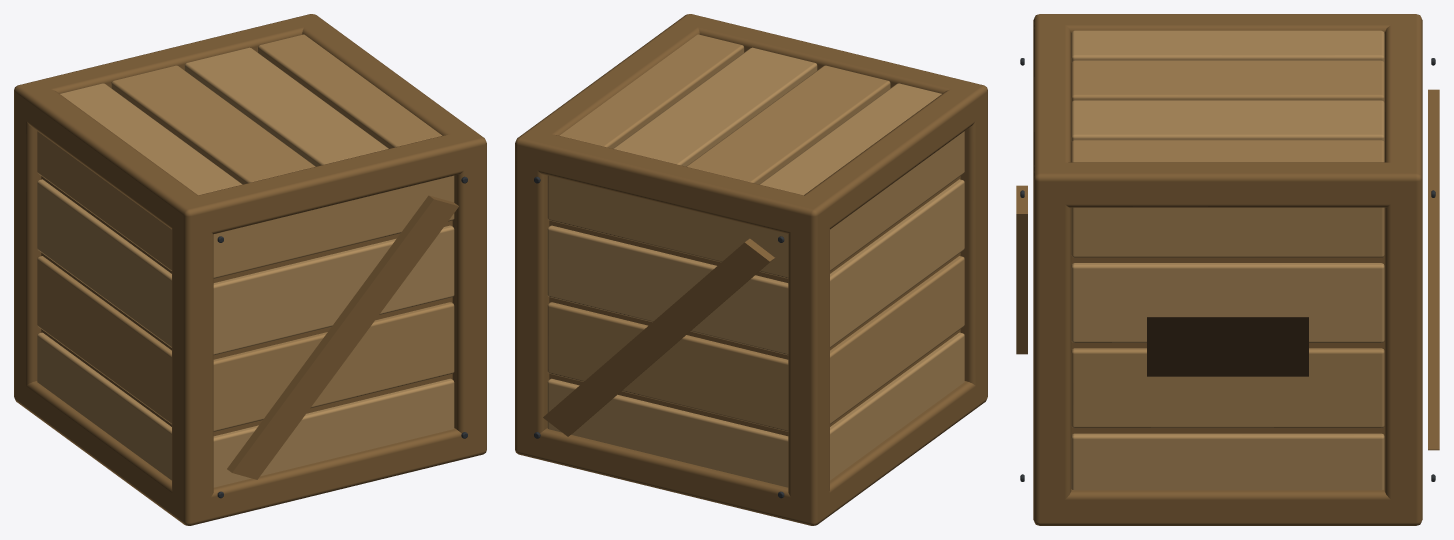
The model's file is pr_crate.glb.
The picture shows the model from 3 angles, left to right: view 1: azimuth 30°, elevation 25°; view 2: azimuth 150°, elevation 25°; view 3: azimuth 270°, elevation 25°; orthographic projection. The views are drawn at different scales.
Parts seen in each view (by area): view 1: block.003, block.004, block.029, block.036, quad, block.002, block.015, block.016, block.023, block.024, block.005, block.035 (+11 smaller); view 2: block.007, block.008, block.026, block.033, block.006, block.015, block.016, block.023, block.024, block.009, block.032, block.027 (+11 smaller); view 3: block.012, block.011, block.010, block.013, block.037, block.024, block.023, block.032, block.035, block.034, block.022, block (+9 smaller).
Boxes of the visible parts, x1=… form: block.003: x1=213, y1=302, x2=454, y2=431; block.004: x1=213, y1=225, x2=454, y2=355; block.029: x1=172, y1=196, x2=213, y2=521; block.036: x1=172, y1=134, x2=485, y2=235; quad: x1=227, y1=195, x2=458, y2=479; block.002: x1=213, y1=378, x2=454, y2=487; block.015: x1=37, y1=256, x2=171, y2=424; block.016: x1=37, y1=179, x2=171, y2=347; block.023: x1=111, y1=65, x2=315, y2=184; block.024: x1=184, y1=47, x2=388, y2=166; block.005: x1=213, y1=175, x2=454, y2=278; block.035: x1=451, y1=129, x2=486, y2=455; block.007: x1=547, y1=302, x2=788, y2=431; block.008: x1=547, y1=225, x2=788, y2=355; block.026: x1=788, y1=196, x2=829, y2=523; block.033: x1=515, y1=134, x2=829, y2=236; block.006: x1=547, y1=378, x2=788, y2=487; block.015: x1=830, y1=256, x2=964, y2=424; block.016: x1=830, y1=179, x2=964, y2=347; block.023: x1=686, y1=65, x2=890, y2=184; block.024: x1=613, y1=47, x2=817, y2=166; block.009: x1=547, y1=175, x2=788, y2=278; block.032: x1=515, y1=129, x2=550, y2=458; block.027: x1=515, y1=428, x2=829, y2=525; block.012: x1=1071, y1=263, x2=1384, y2=342; block.011: x1=1071, y1=348, x2=1384, y2=428; block.010: x1=1071, y1=433, x2=1384, y2=490; block.013: x1=1071, y1=207, x2=1384, y2=257; block.037: x1=1033, y1=162, x2=1421, y2=207; block.024: x1=1071, y1=100, x2=1384, y2=142; block.023: x1=1071, y1=60, x2=1384, y2=102; block.032: x1=1384, y1=162, x2=1422, y2=525; block.035: x1=1033, y1=162, x2=1071, y2=522; block.034: x1=1033, y1=489, x2=1422, y2=525; block.022: x1=1071, y1=30, x2=1384, y2=62; block: x1=1147, y1=317, x2=1308, y2=376.
Size of the model in its own units: 0.742 by 0.72 by 0.784.
